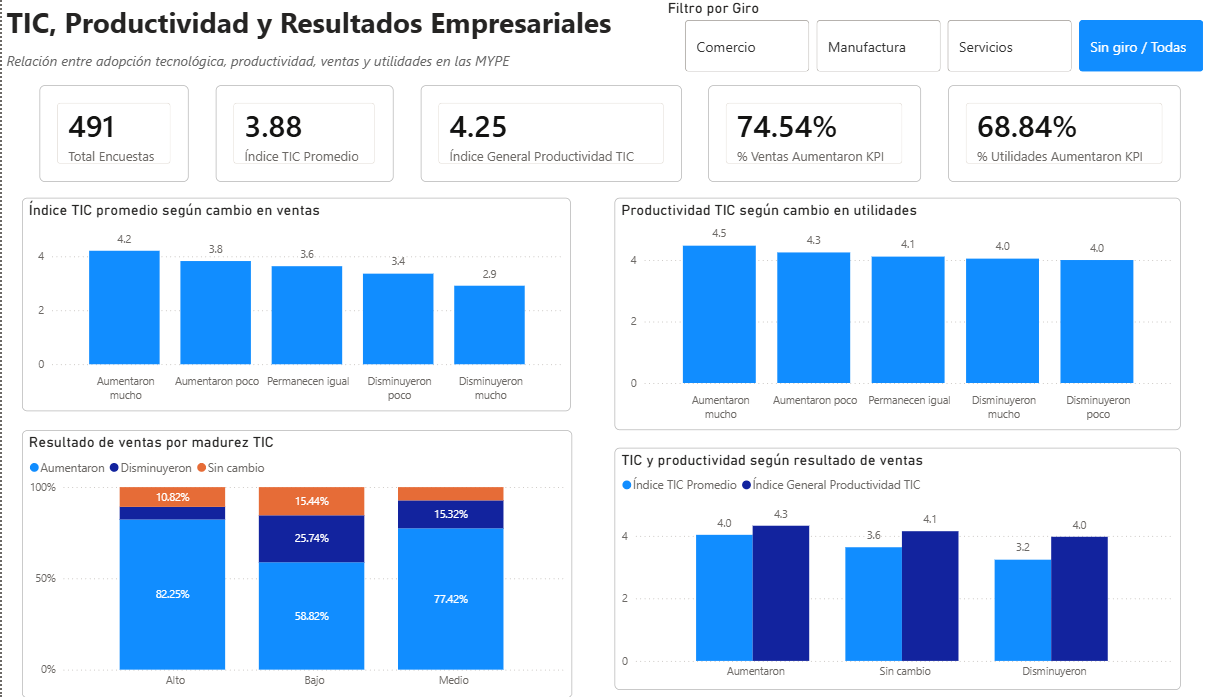

The page's visual inventory and layout, read from the dashboard file:
{"tool":"powerbi","page":{"name":"DB3 - Resultados","canvas":[1400,800],"ordinal":2},"visuals":[{"type":"cardVisual","fields":{"Data":["Fact_Encuestas_Limpias.% Utilidades Aumentaron KPI"]},"box":[1081.4,98.6,265.7,110],"z":0},{"type":"cardVisual","fields":{"Data":["Fact_Encuestas_Limpias.Índice General Productividad TIC"]},"box":[477.9,98.6,298.6,110],"z":1000},{"type":"cardVisual","fields":{"Data":["Fact_Encuestas_Limpias.% Ventas Aumentaron KPI"]},"box":[807.5,98.6,242.9,110],"z":2000},{"type":"cardVisual","fields":{"Data":["Fact_Encuestas_Limpias.Índice TIC Promedio"]},"box":[243.9,98.6,202.9,110],"z":3000},{"type":"cardVisual","fields":{"Data":["Fact_Encuestas_Limpias.Total Encuestas"]},"box":[42.9,98.6,170,110],"z":4000},{"type":"advancedSlicerVisual","title":"Filtro por Giro","fields":{"Values":["Bridge_GiroFiltro.Giro_Filtro"]},"box":[756.1,0,643.2,88.5],"z":5000},{"type":"textbox","box":[0,0,716.1,72],"z":6000},{"type":"textbox","box":[0,54.7,615.5,33.9],"z":7000},{"type":"clusteredColumnChart","title":"TIC y productividad según resultado de ventas","fields":{"Category":["Fact_Encuestas_Limpias.Resultado Ventas Grupo"],"Y":["Avg(Fact_Encuestas_Limpias.Indice_TIC)","Avg(Fact_Encuestas_Limpias.Indice_General_Productividad_TIC)"]},"box":[700,512.9,647.1,277.1],"z":8000},{"type":"clusteredColumnChart","title":"Índice TIC promedio según cambio en ventas","fields":{"Category":["Fact_Encuestas_Limpias.Cambio_Ventas"],"Y":["Fact_Encuestas_Limpias.Índice TIC Promedio"]},"box":[22.9,227.1,627.1,244.3],"z":9000},{"type":"clusteredColumnChart","title":"Productividad TIC según cambio en utilidades","fields":{"Category":["Fact_Encuestas_Limpias.Cambio_Utilidades"],"Y":["Fact_Encuestas_Limpias.Índice General Productividad TIC"]},"box":[700,227.1,647.1,265.7],"z":10000},{"type":"hundredPercentStackedColumnChart","title":"Resultado de ventas por madurez TIC","fields":{"Category":["Fact_Encuestas_Limpias.Nivel_Madurez_TIC"],"Series":["Fact_Encuestas_Limpias.Resultado Ventas Grupo"],"Y":["Fact_Encuestas_Limpias.Total Encuestas"]},"box":[22.9,492.9,628.6,307.1],"z":11000}]}

Visuals, with their boxes in screenshot pixels (x1, y1, x2, y2), scaled from the page's 1400x800 canvas onto the 1207x697 screenshot:
cardVisual - Fact_Encuestas_Limpias.% Utilidades Aumentaron KPI: <box>932,86,1161,182</box>
cardVisual - Fact_Encuestas_Limpias.Índice General Productividad TIC: <box>412,86,669,182</box>
cardVisual - Fact_Encuestas_Limpias.% Ventas Aumentaron KPI: <box>696,86,906,182</box>
cardVisual - Fact_Encuestas_Limpias.Índice TIC Promedio: <box>210,86,385,182</box>
cardVisual - Fact_Encuestas_Limpias.Total Encuestas: <box>37,86,184,182</box>
"Filtro por Giro" advancedSlicerVisual: <box>652,0,1206,77</box>
textbox: <box>0,0,617,63</box>
textbox: <box>0,48,531,77</box>
"TIC y productividad según resultado de ventas" clusteredColumnChart: <box>604,447,1161,688</box>
"Índice TIC promedio según cambio en ventas" clusteredColumnChart: <box>20,198,560,411</box>
"Productividad TIC según cambio en utilidades" clusteredColumnChart: <box>604,198,1161,429</box>
"Resultado de ventas por madurez TIC" hundredPercentStackedColumnChart: <box>20,429,562,696</box>
